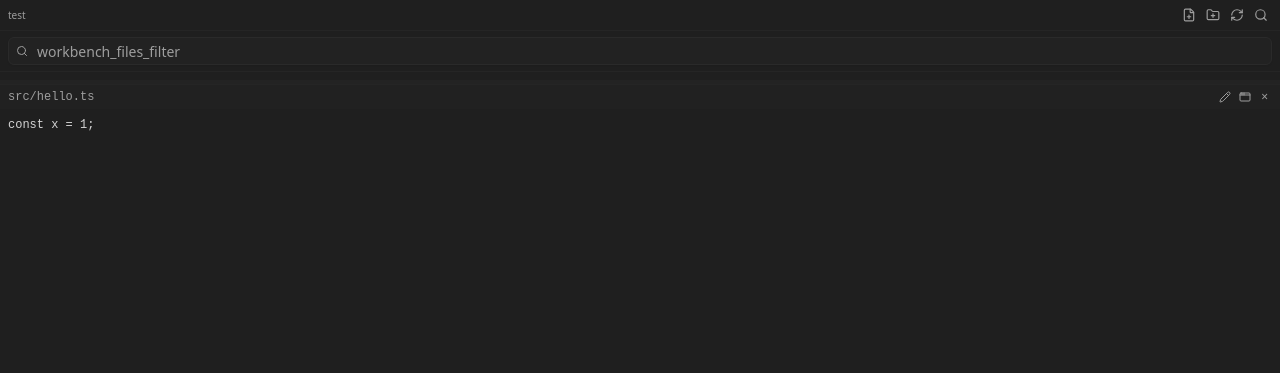
it: FilesTab inline editor › clicar no Pencil de novo (data-editing=true) volta para view
This screenshot has width=1280, height=373.
Click the button named "workbench_files_edit".
click(1225, 97)  # box [1217, 89, 1233, 105]
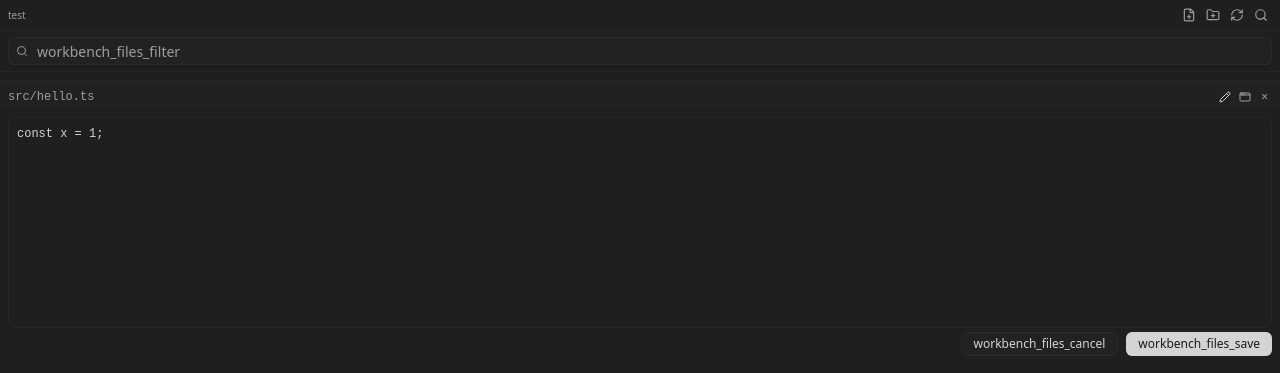
Click the button named "workbench_files_cancel".
click(1225, 97)  # box [1217, 89, 1233, 105]
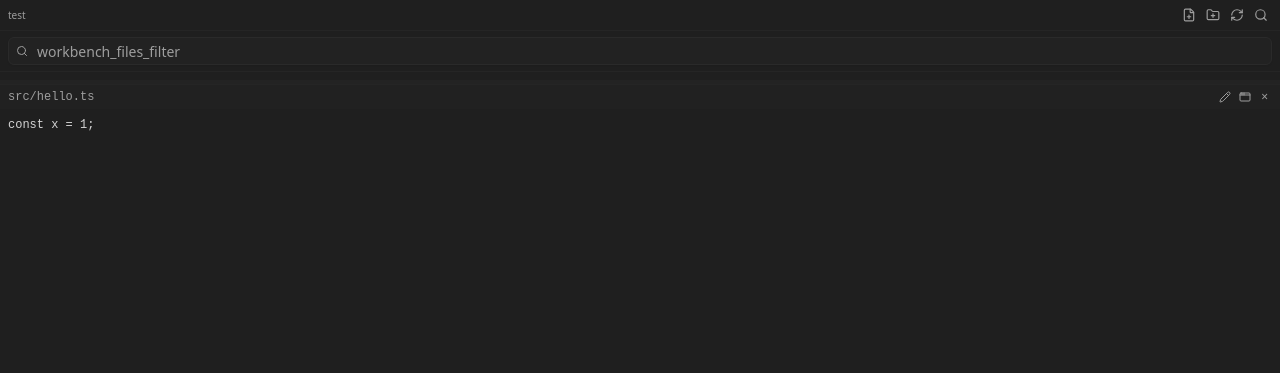
Now the text box with test id "inline-editor-textarea" is gone
